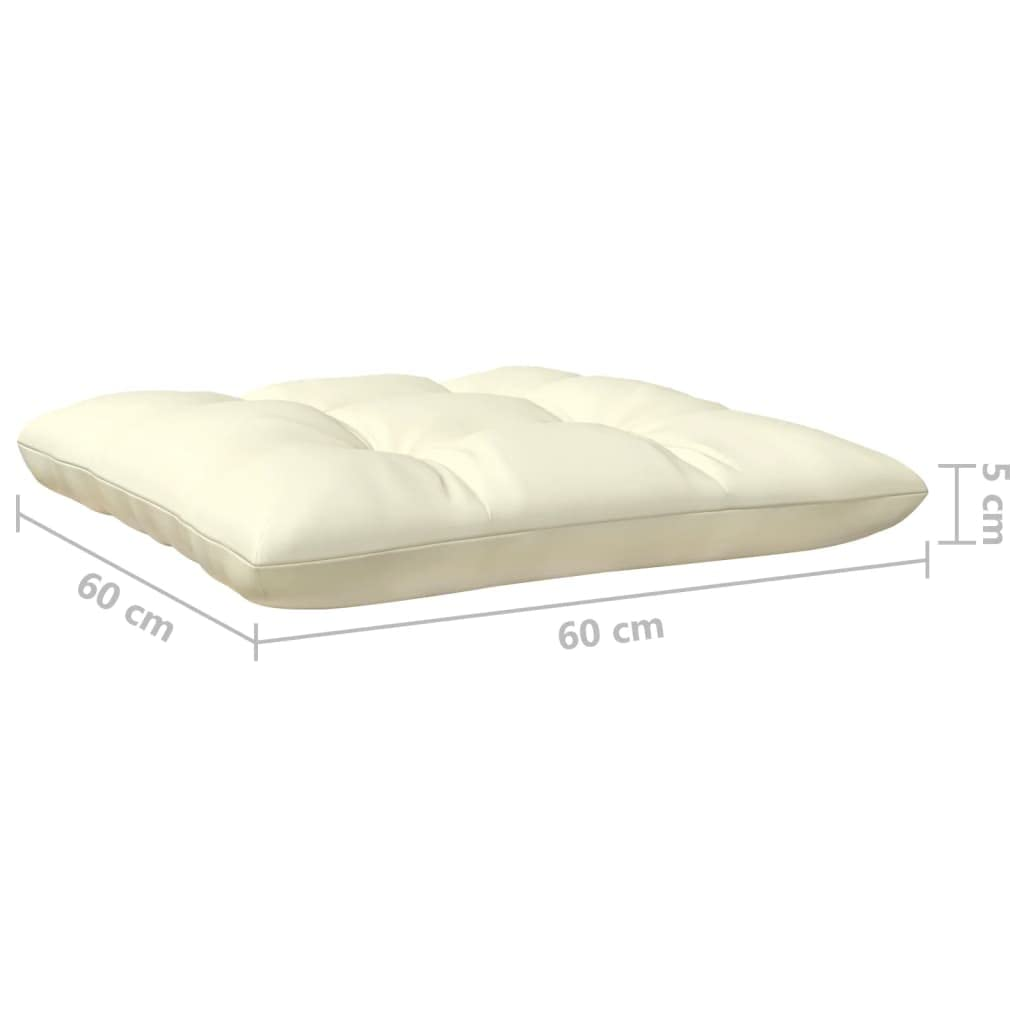60: (559, 619, 600, 649)
cm: (613, 618, 664, 643)
